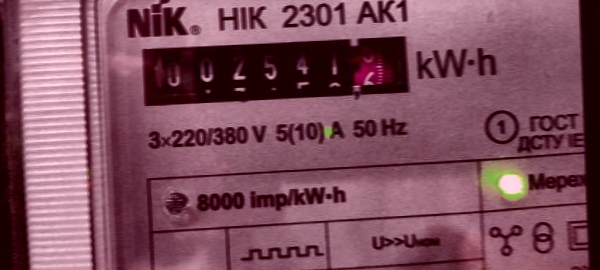0: (195, 52, 215, 86), (164, 60, 183, 89)
1: (323, 45, 340, 78)
2: (226, 50, 248, 85)
4: (292, 47, 310, 79)
5: (260, 51, 277, 84)
6: (359, 68, 376, 89)
screen: (126, 22, 430, 122)
